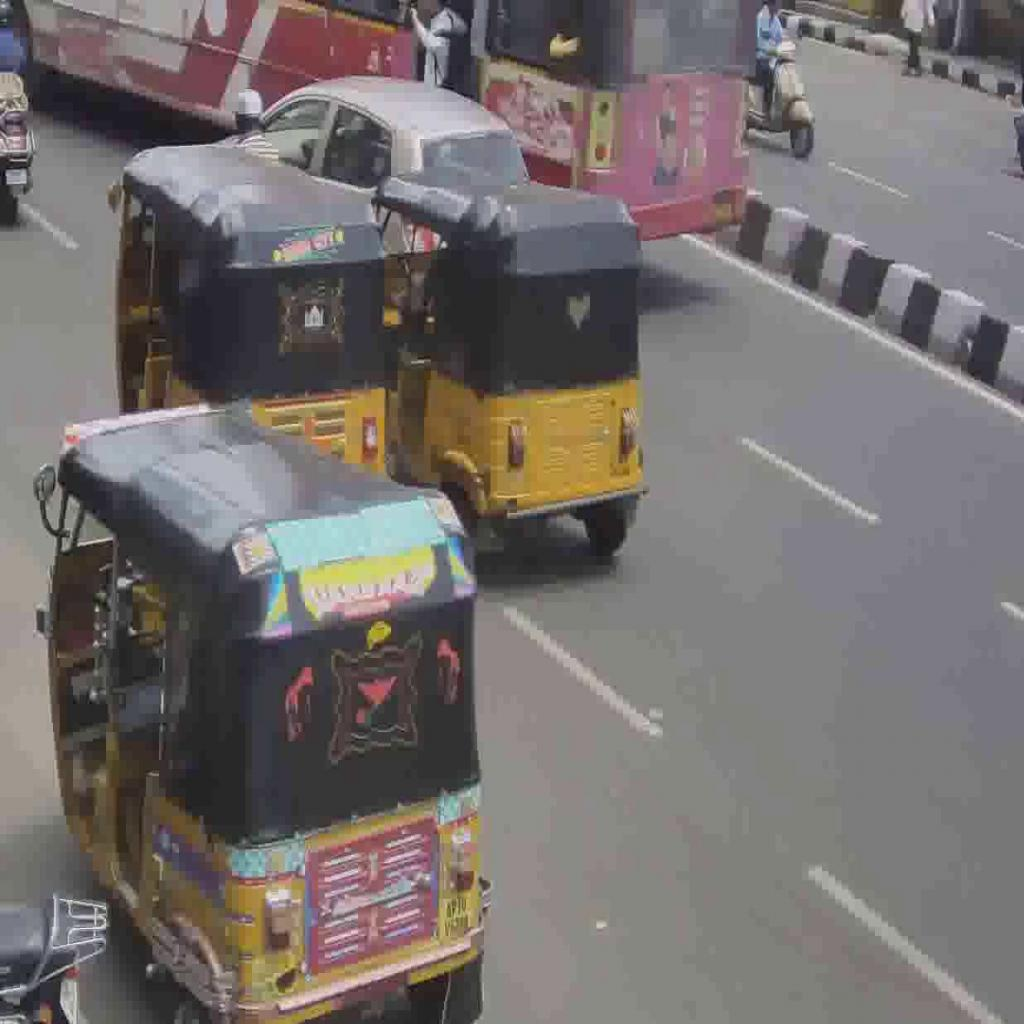helmet: (0, 104, 38, 222)
